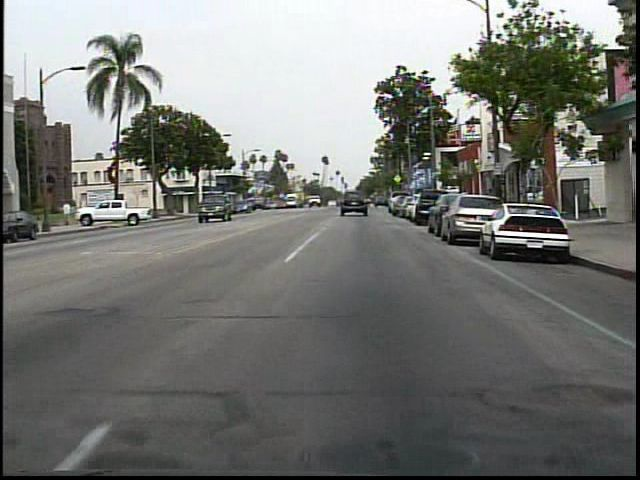person: (366, 189, 381, 218), (63, 198, 75, 229)
